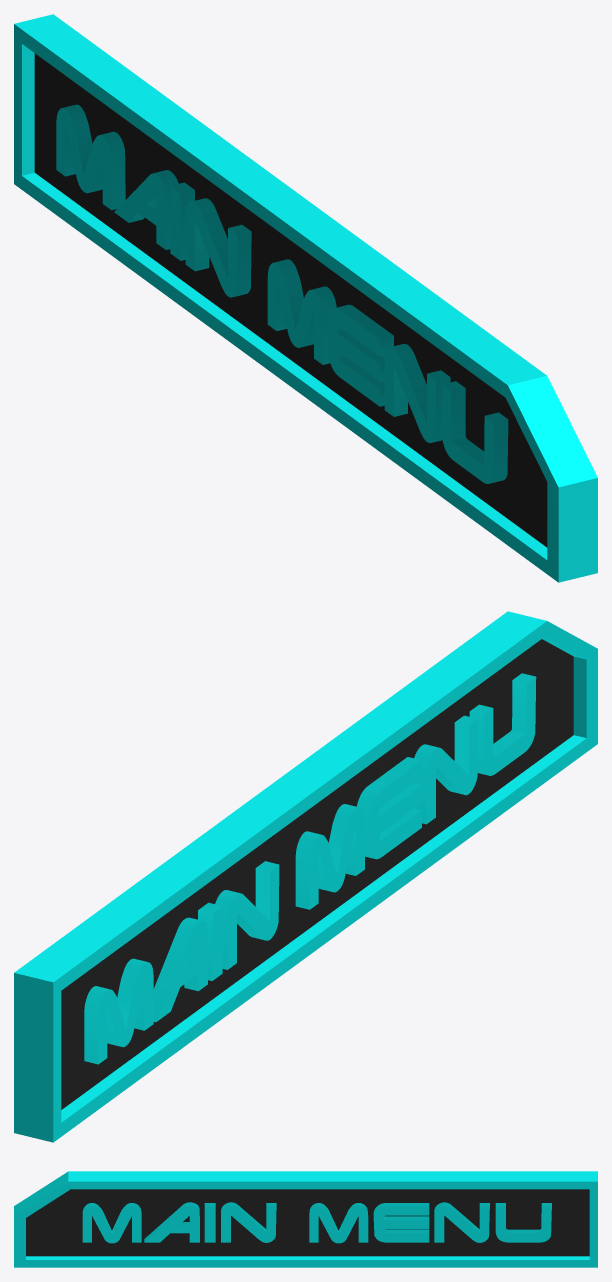
The model's file is MainMenu.fbx.
3 views of the same model, one above another, from view 1: azimuth 30°, elevation 25°; view 2: azimuth 150°, elevation 25°; view 3: azimuth 270°, elevation 25° (orthographic). The views are drawn at different scales.
Parts seen in each view (by area): view 1: Cube.001; view 2: Cube.001; view 3: Cube.001.
Part boxes in pixels (<box>): Cube.001: <box>14,14,597,582</box>; Cube.001: <box>14,611,597,1142</box>; Cube.001: <box>14,1171,597,1267</box>.
Size of the model in its own units: 38.81 by 146 by 899.
